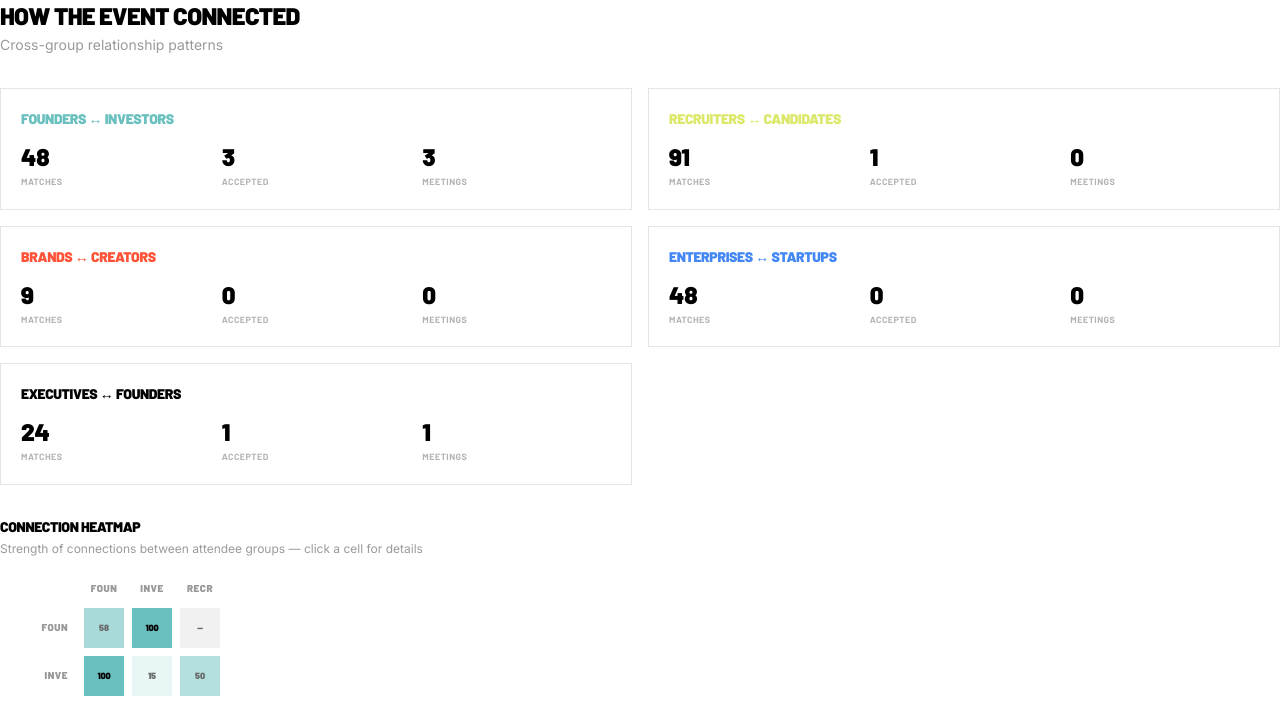
RelationshipsTab — heatmap › opens a detail popover for a non-empty cell
Click the button "58". click: (104, 628)
box: x1=84 y1=608 x2=124 y2=648
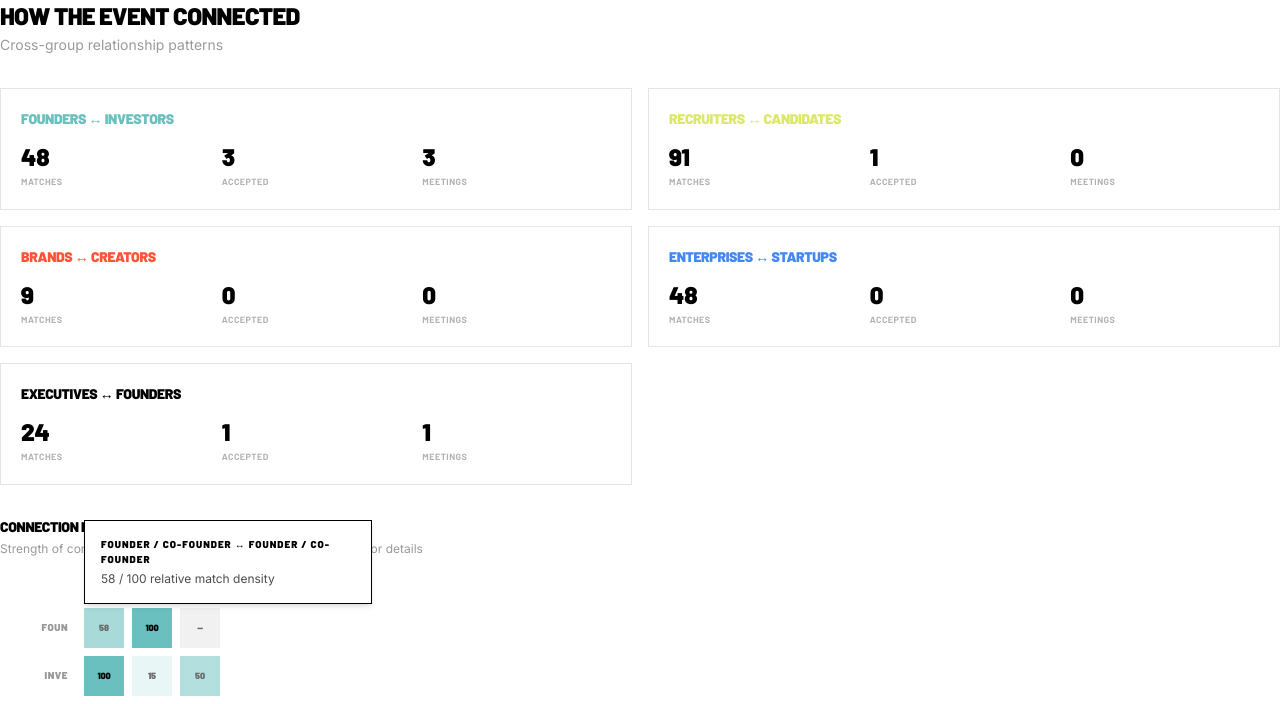
Result: the text "Founder / Co-founder ↔ Founder / Co-founder" is shown at x1=101 y1=537 x2=355 y2=567
